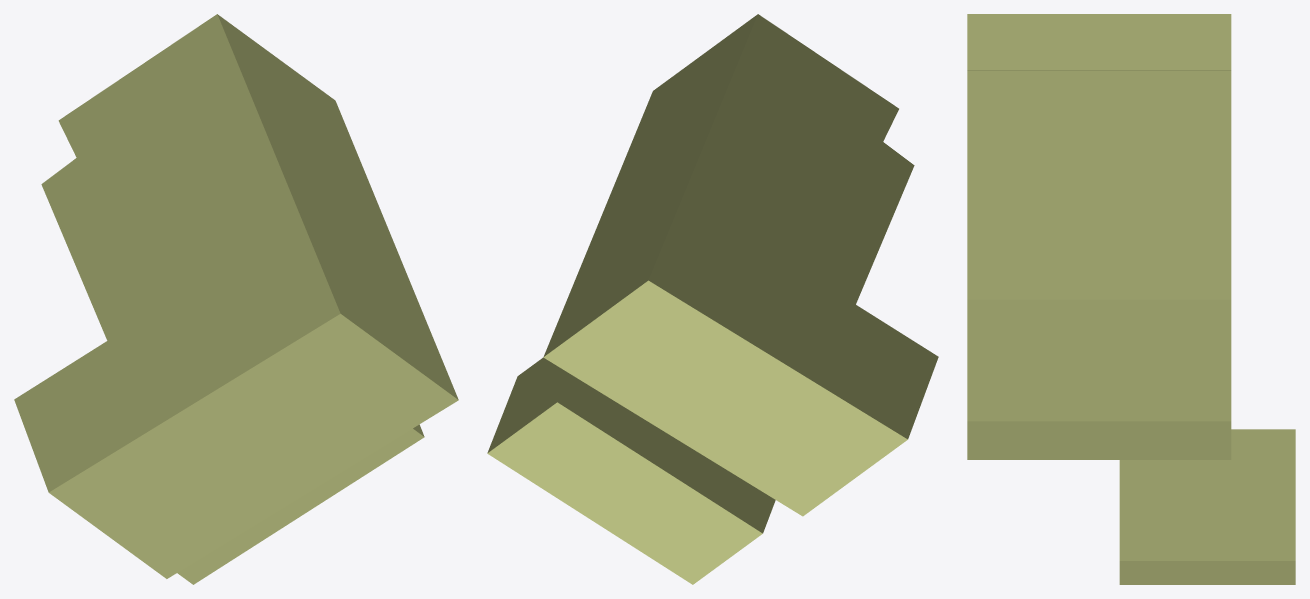
3 views of the same model, side by side, from view 1: azimuth 30°, elevation 25°; view 2: azimuth 150°, elevation 25°; view 3: azimuth 270°, elevation 25° (orthographic). The views are drawn at different scales.
Visible parts, largest first — view 1: 0_0_1_2_0_0_3_0_3_0; view 2: 0_0_1_2_0_0_3_0_3_0; view 3: 0_0_1_2_0_0_3_0_3_0.
Boxes of the visible parts, bbox=[...] form: 0_0_1_2_0_0_3_0_3_0: bbox=[14, 14, 458, 584]; 0_0_1_2_0_0_3_0_3_0: bbox=[487, 14, 938, 584]; 0_0_1_2_0_0_3_0_3_0: bbox=[967, 14, 1295, 584].
Size of the model in its own units: 15.85 by 21.68 by 11.2.
